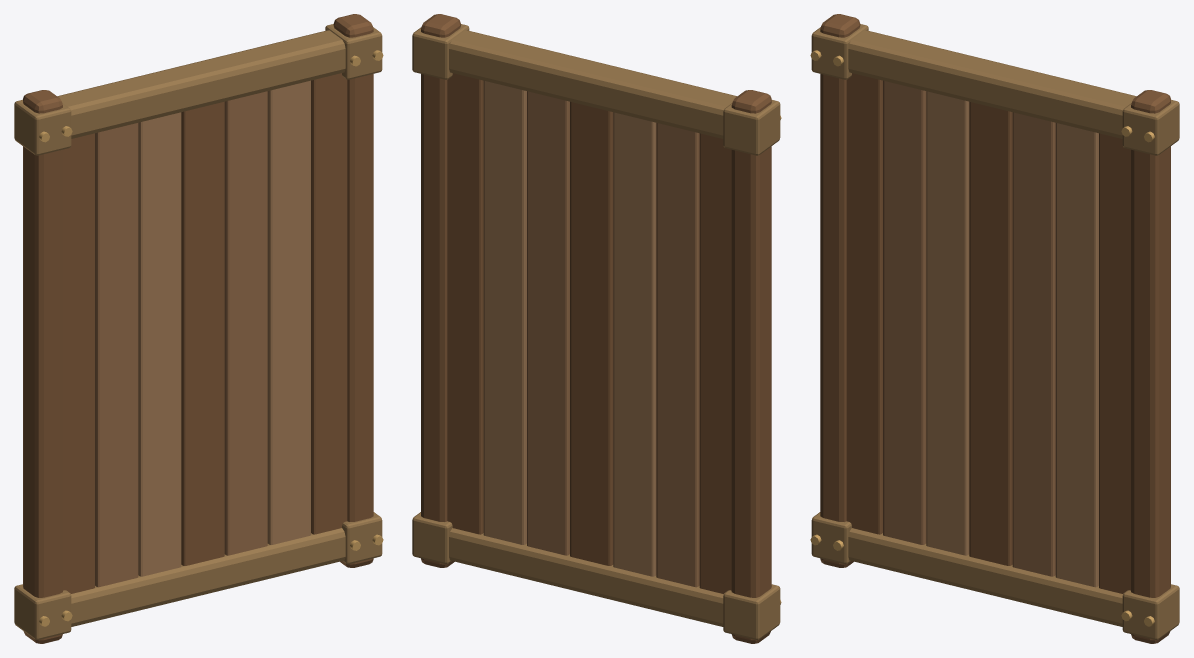
File: wall.glb
3 views of the same model, side by side, from view 1: azimuth 30°, elevation 25°; view 2: azimuth 150°, elevation 25°; view 3: azimuth 330°, elevation 25° (orthographic).
Parts seen in each view (by area): view 1: wall; view 2: wall; view 3: wall.
Part boxes in pixels (x1,y1,x2,y2): wall: [14, 14, 383, 643]; wall: [412, 14, 781, 643]; wall: [810, 14, 1179, 643].
Size of the model in its own units: 2.01 by 3 by 0.2575.
